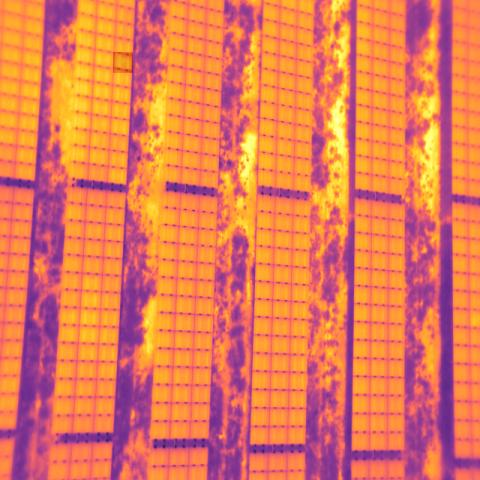fault: (113, 53, 133, 73)
